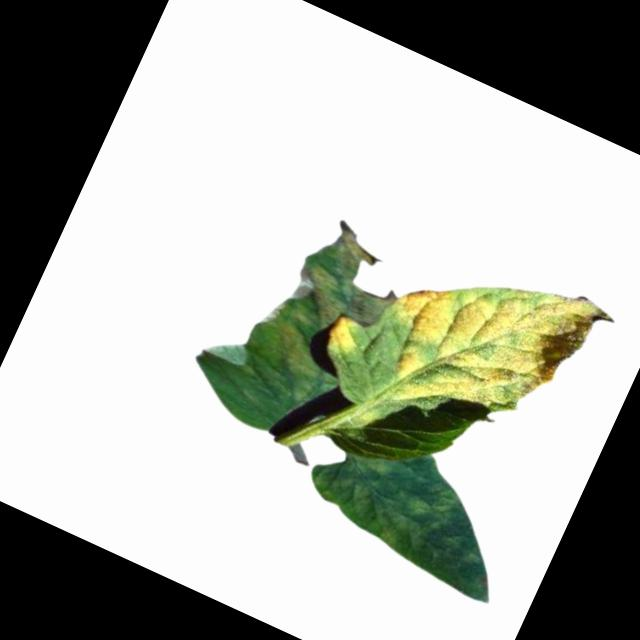Leaf_Mold: (361, 225, 603, 463), (235, 206, 418, 423), (305, 435, 526, 607)
